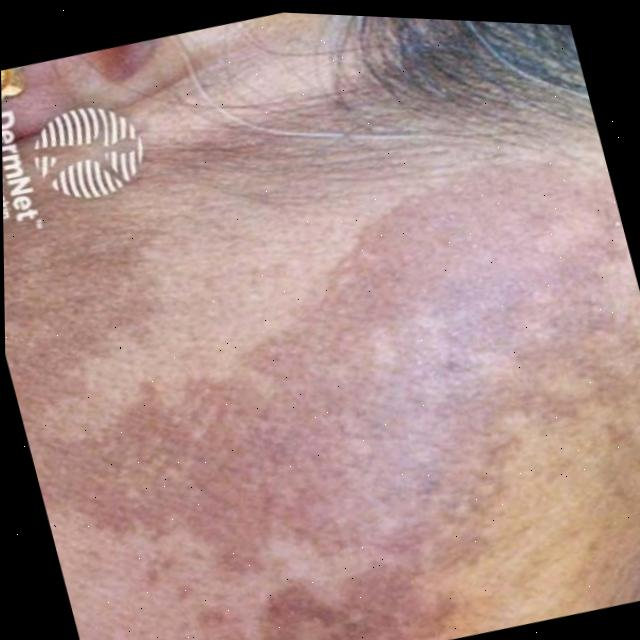Melasma: (34, 145, 640, 640)
